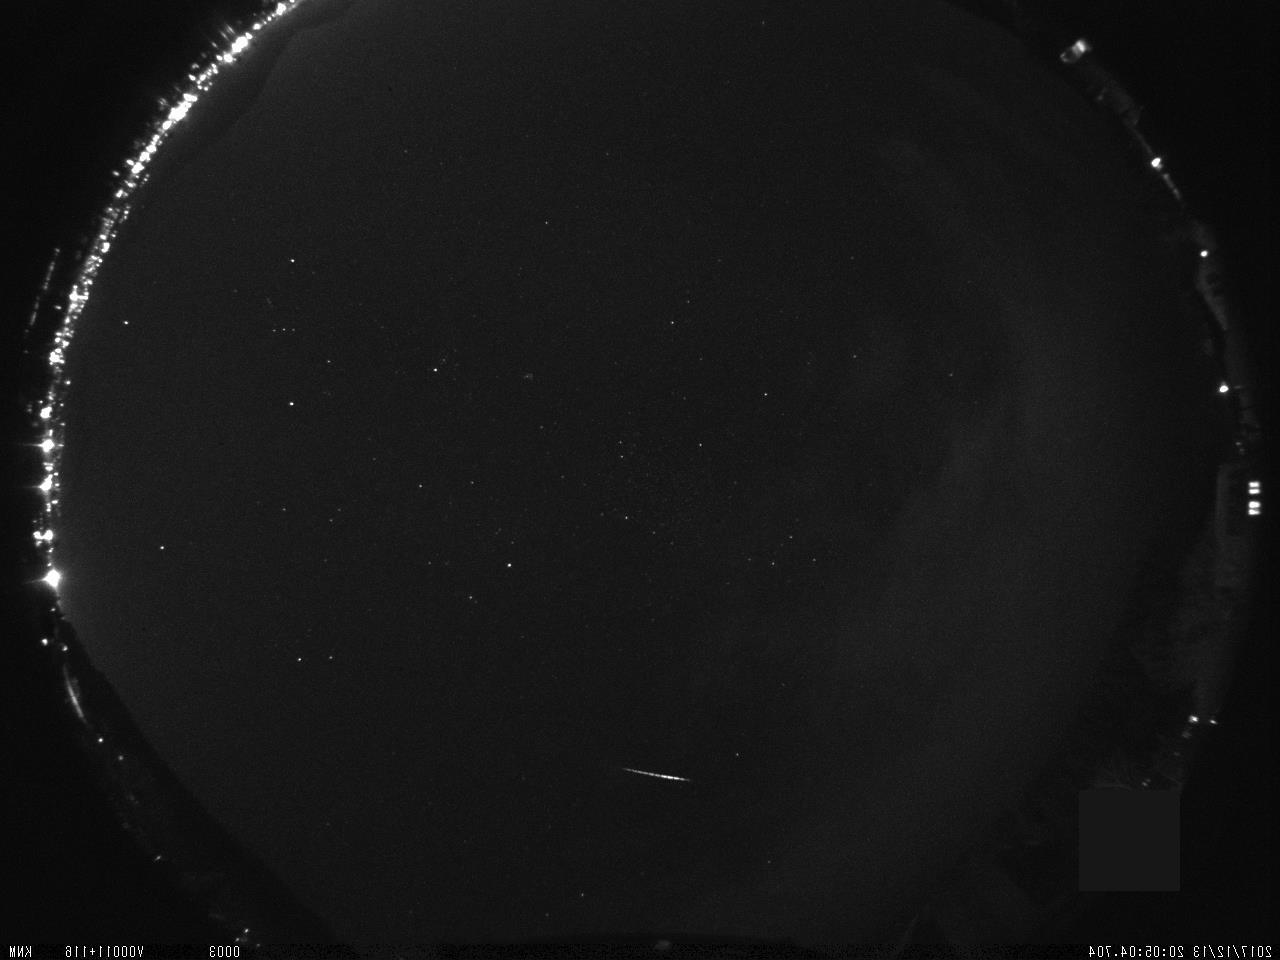meteor: (606, 750, 712, 794)
